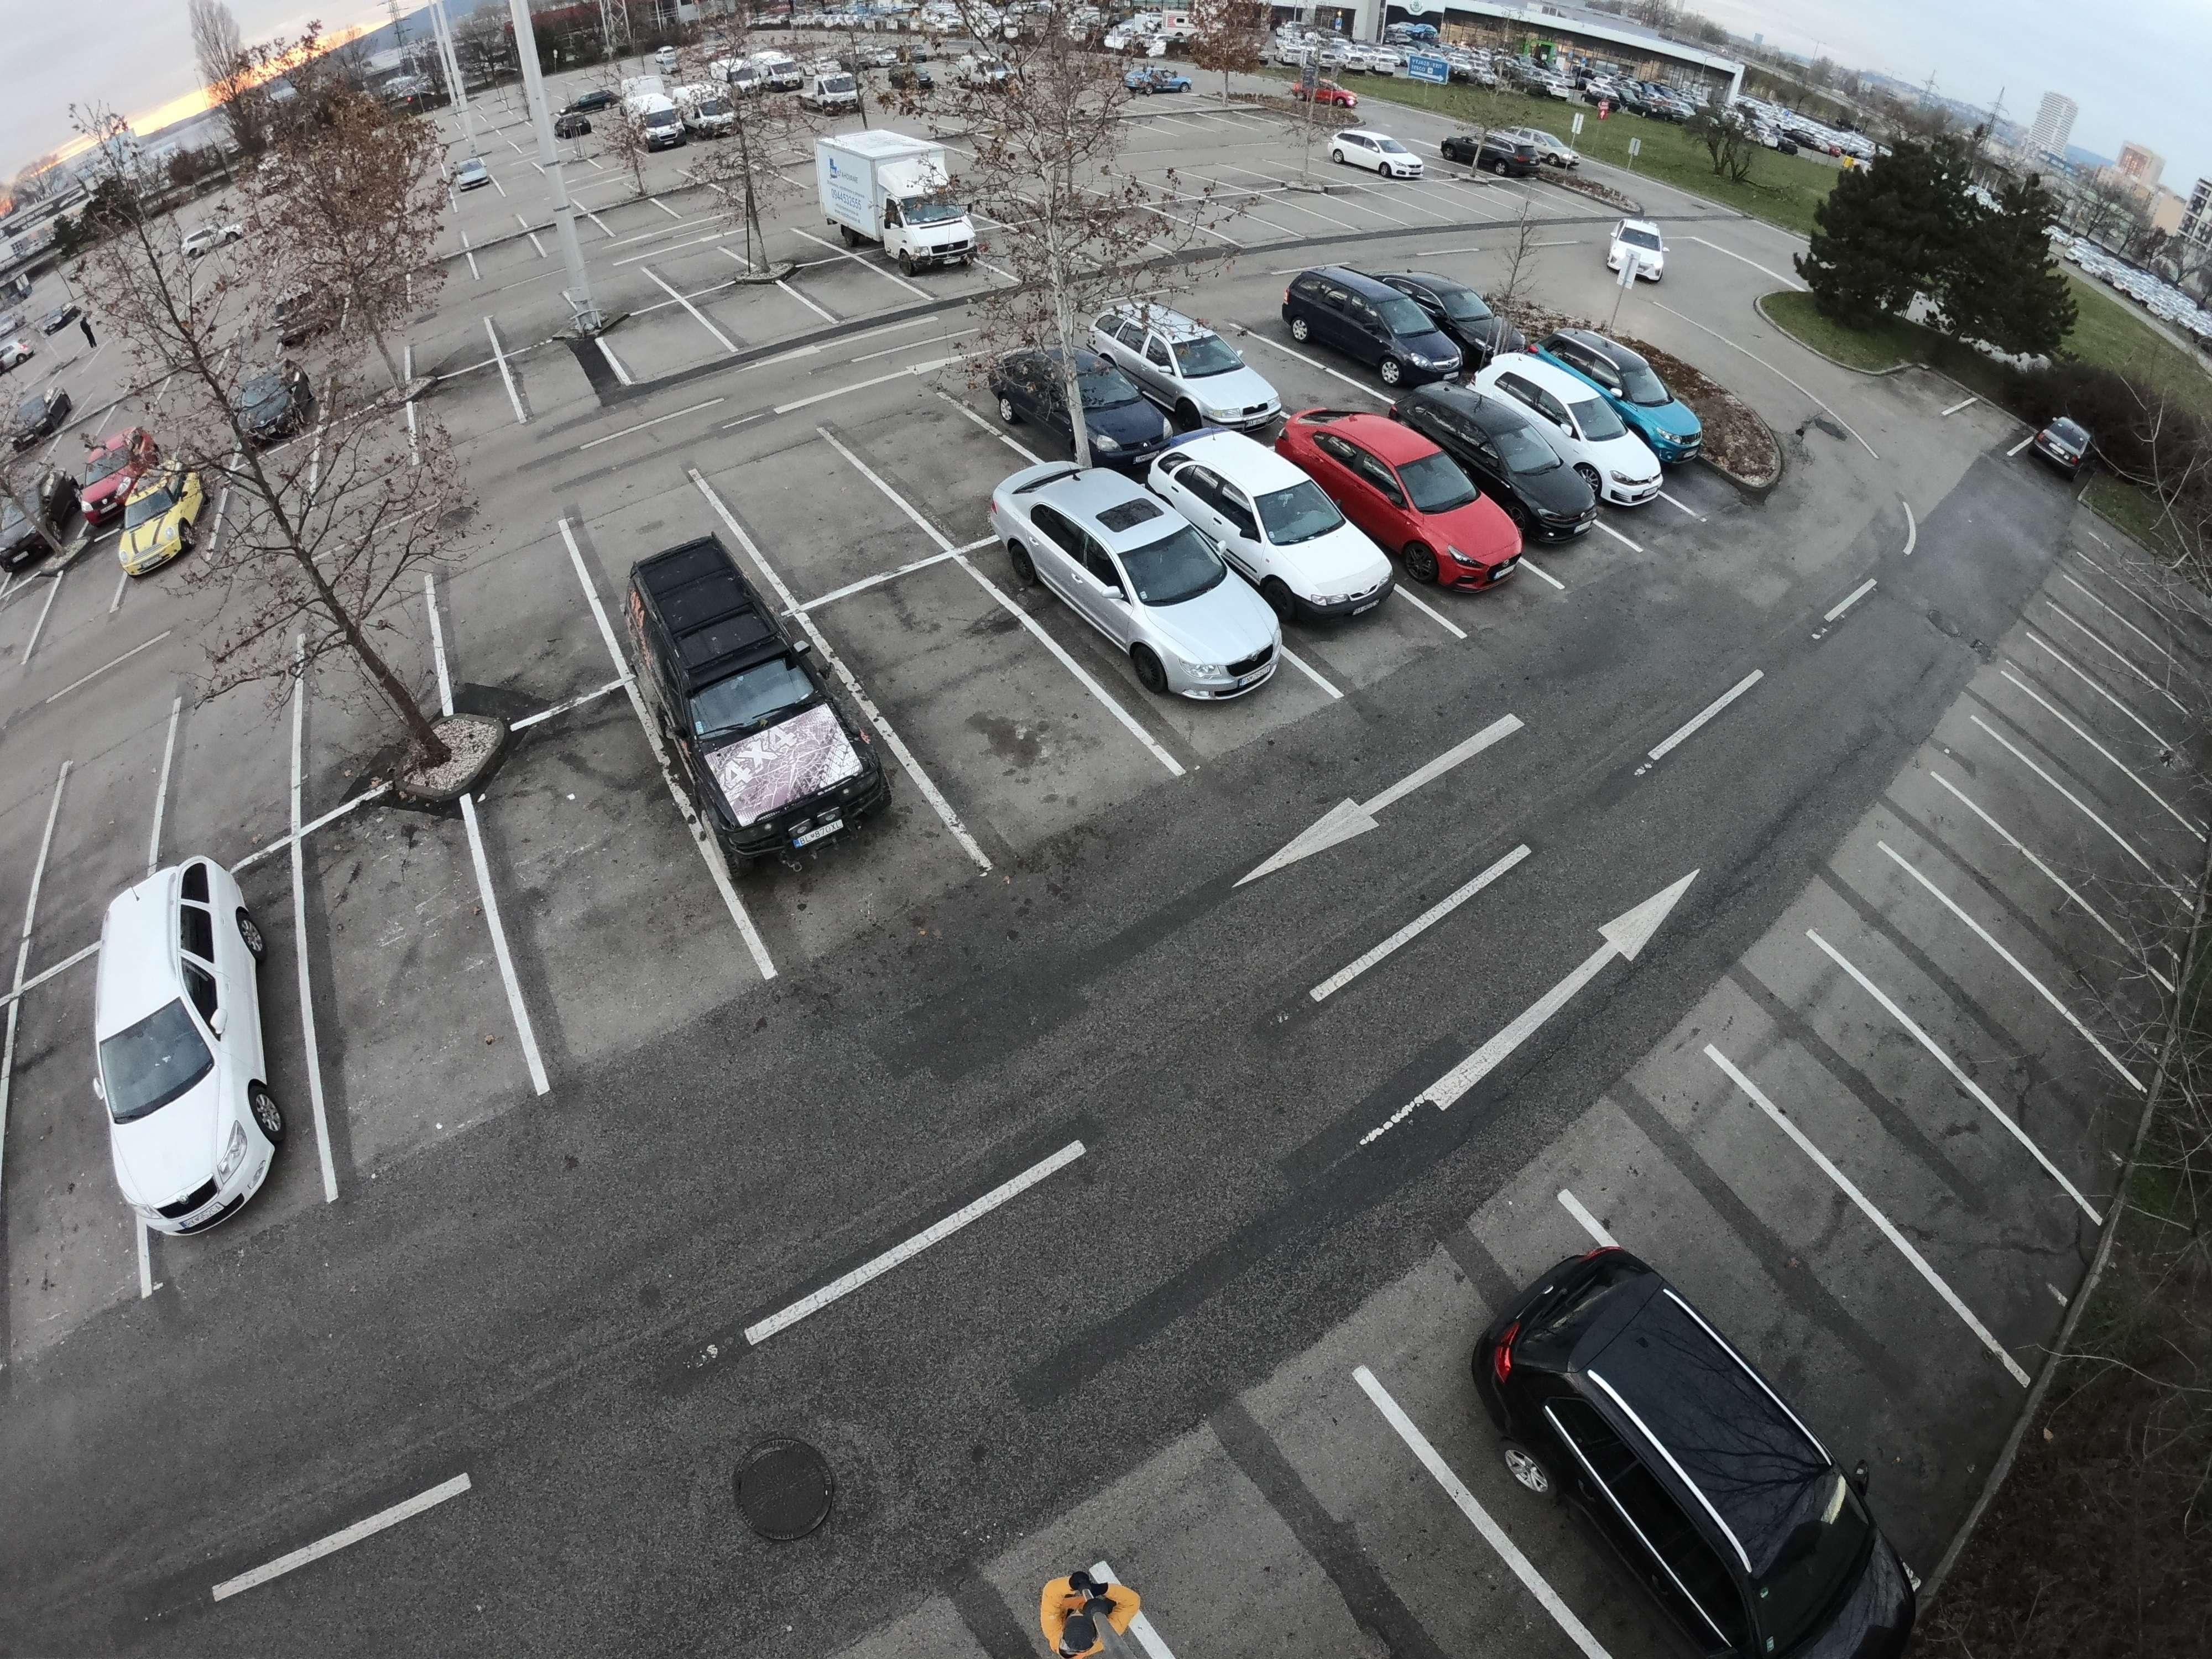empty: (1453, 1227, 1904, 1659), (57, 840, 310, 1237), (643, 538, 892, 880), (1001, 471, 1275, 701), (1172, 429, 1386, 620), (1308, 403, 1507, 579), (1423, 382, 1585, 542), (1487, 354, 1648, 511), (1099, 301, 1275, 420), (1005, 340, 1169, 462), (1296, 272, 1460, 382), (841, 176, 986, 274), (1561, 324, 1686, 436), (221, 357, 310, 448), (1413, 281, 1519, 354), (1458, 125, 1559, 183), (1332, 127, 1425, 185), (805, 68, 871, 118)
occupied: (1632, 1175, 1919, 1342), (1191, 1488, 1421, 1659), (333, 915, 500, 1073), (1806, 1075, 1980, 1220), (432, 554, 594, 702), (523, 823, 676, 965), (307, 589, 418, 769), (888, 624, 1049, 741), (1886, 939, 2033, 1047), (64, 763, 183, 873), (1966, 887, 2095, 967), (606, 298, 719, 378), (172, 728, 273, 816), (765, 474, 878, 547), (707, 258, 786, 354), (423, 368, 507, 443), (517, 340, 613, 404), (2015, 791, 2085, 877), (415, 291, 481, 376), (2024, 730, 2113, 793), (895, 427, 986, 488), (801, 267, 883, 317), (493, 296, 566, 349), (470, 235, 542, 288), (573, 265, 644, 315), (658, 249, 733, 296)
